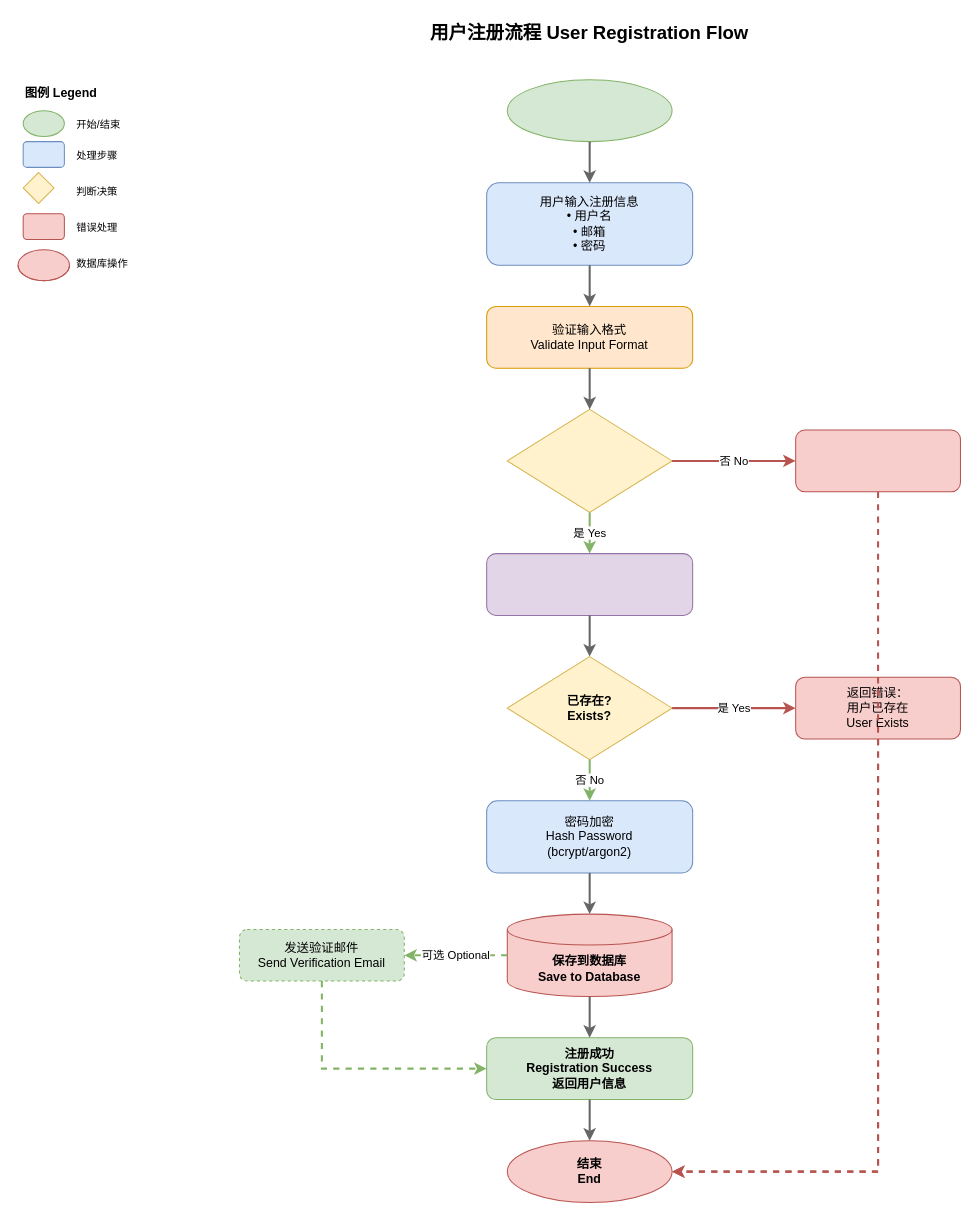
Some shapes in this 979 by 1221 pixel diagram are drawn without their labels. Each missing label, with the centre of its shape:
开始 Start: point (589, 110)
格式有效? Valid?: point (589, 460)
检查用户名/邮箱 是否已存在 Check if Exists: point (589, 584)
返回错误： 格式无效 Invalid Format: point (877, 460)
